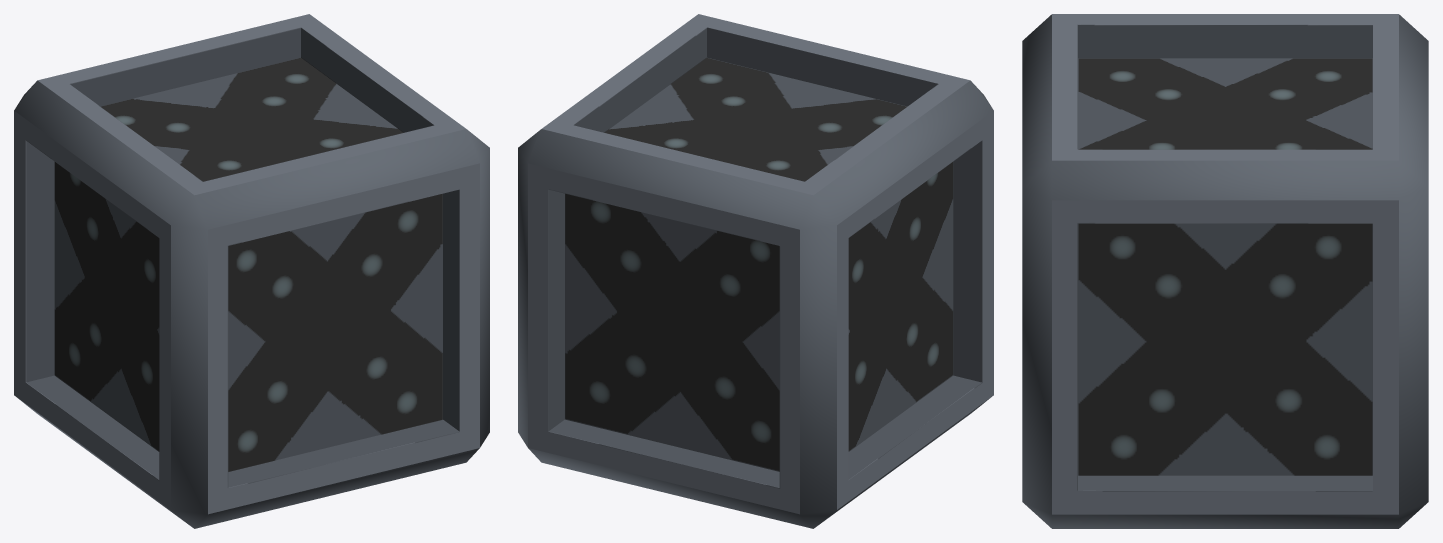
Rendered from SteelCrate.fbx.
3 views of the same model, side by side, from view 1: azimuth 30°, elevation 25°; view 2: azimuth 150°, elevation 25°; view 3: azimuth 270°, elevation 25° (orthographic). The views are drawn at different scales.
Visible parts, largest first — view 1: SteelCrate; view 2: SteelCrate; view 3: SteelCrate.
Boxes of the visible parts, x1,y1,x2,y2 form: SteelCrate: (14,14,489,528); SteelCrate: (518,14,993,528); SteelCrate: (1022,14,1428,528).
Bounding box in the file's own units: 99.54 × 99.54 × 99.54.
Materials: 1 (1 with a texture image).
